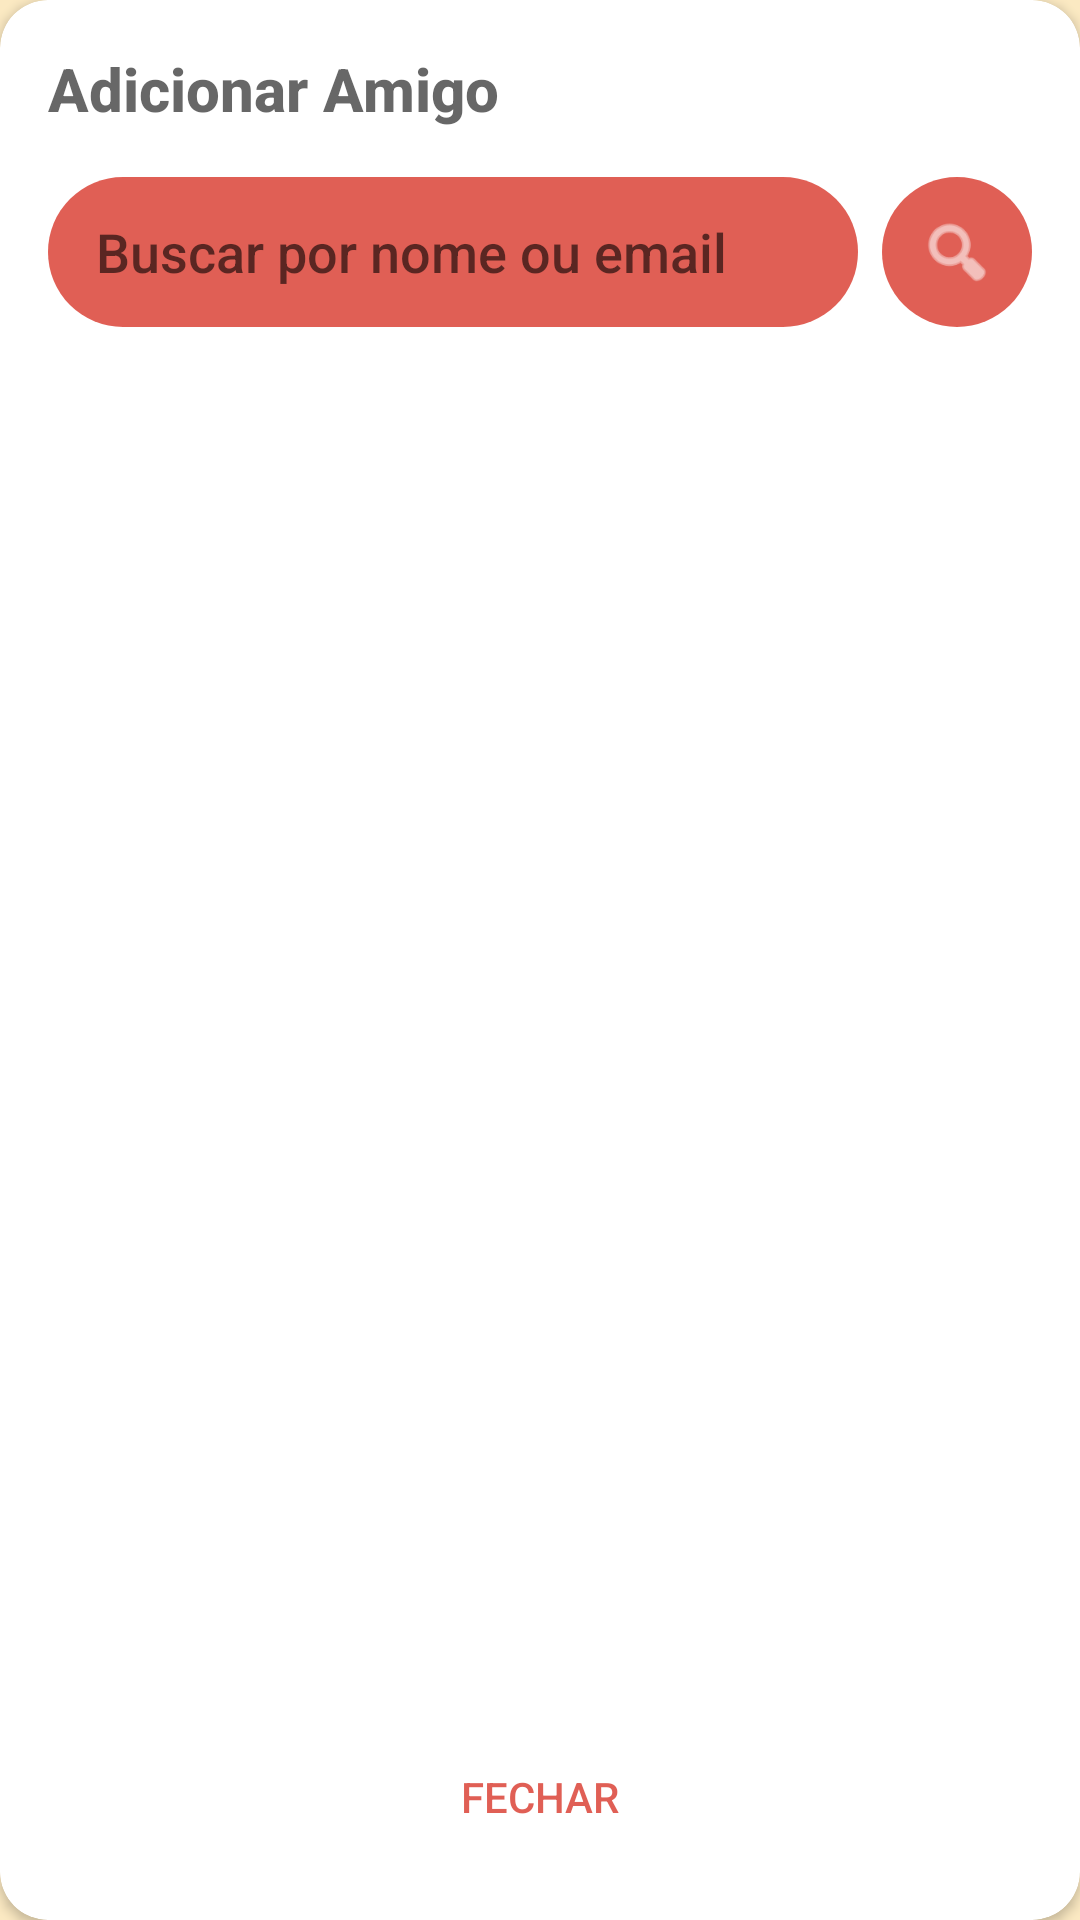

Where icons sit on this 1080 x 1920 app screen, as (x1, y1, x2, y2):
search: (882, 177, 1032, 327)
